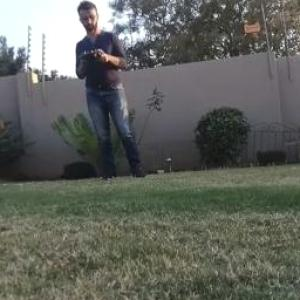follow: (70, 0, 155, 187)
